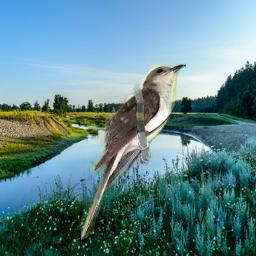Cuckoo: (81, 63, 186, 240)
